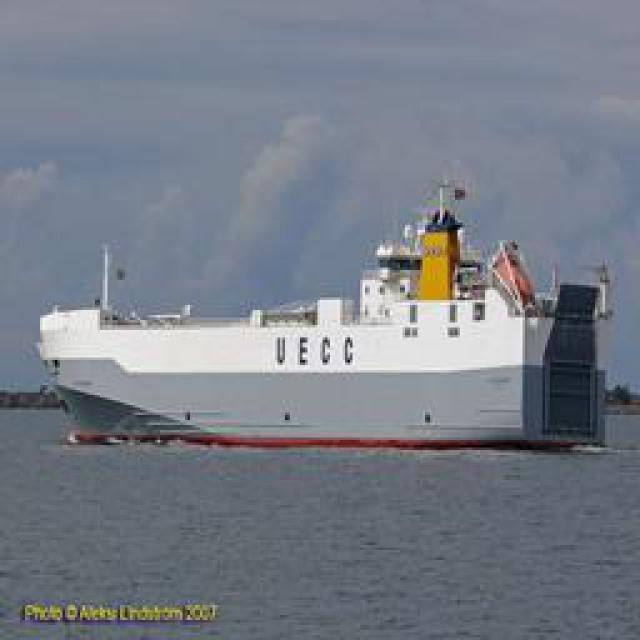Ship: (48, 153, 616, 448)
